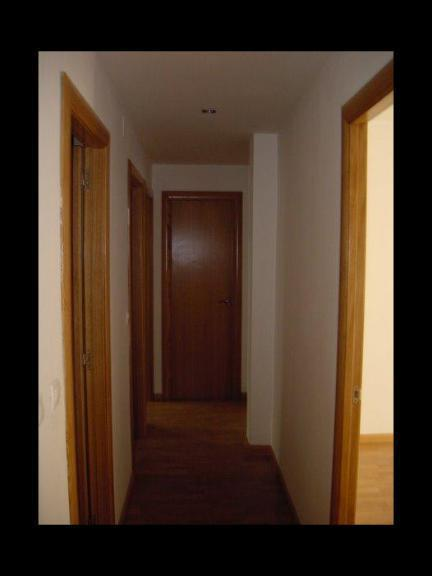Puerta: (164, 194, 243, 398)
